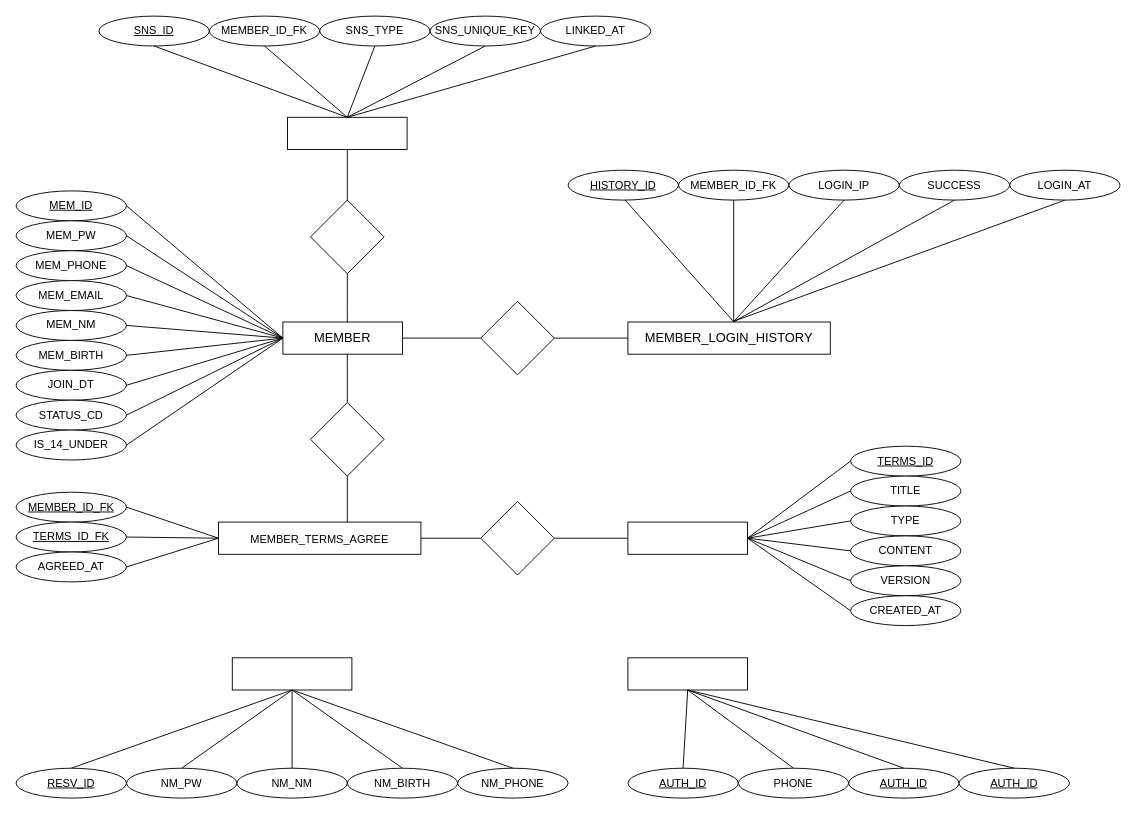
Image size: 1136x814. Some labels were removed from this diagram. Here are the shapes that lost their labels. From the top down, the box of each, then its label:
(287, 116, 407, 150): SNS_MEMBER
(310, 199, 384, 274): SNS 연동
(480, 300, 554, 375): 로그인
(310, 402, 384, 476): 동의
(480, 500, 554, 575): 포함
(627, 521, 748, 554): TERMS
(231, 657, 352, 690): NON_MEMBER
(627, 657, 748, 690): MEMBER_AUTH
